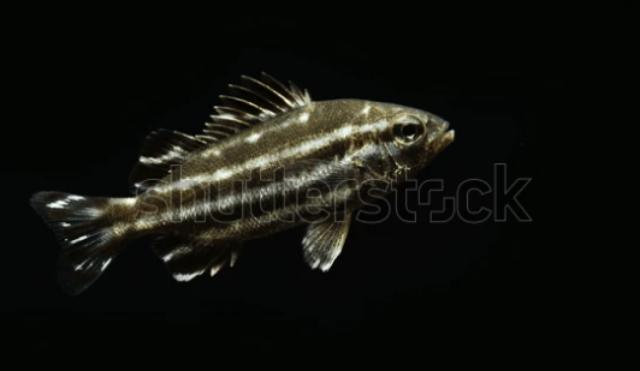Mulut: (424, 111, 464, 164)
Sirip Anal: (150, 224, 244, 284)
Sirip Dada: (280, 144, 378, 202)
Sirip Ekor: (25, 182, 137, 300)
Sirip Perut: (301, 209, 357, 273)
Sirip Punggung: (128, 69, 314, 189)
